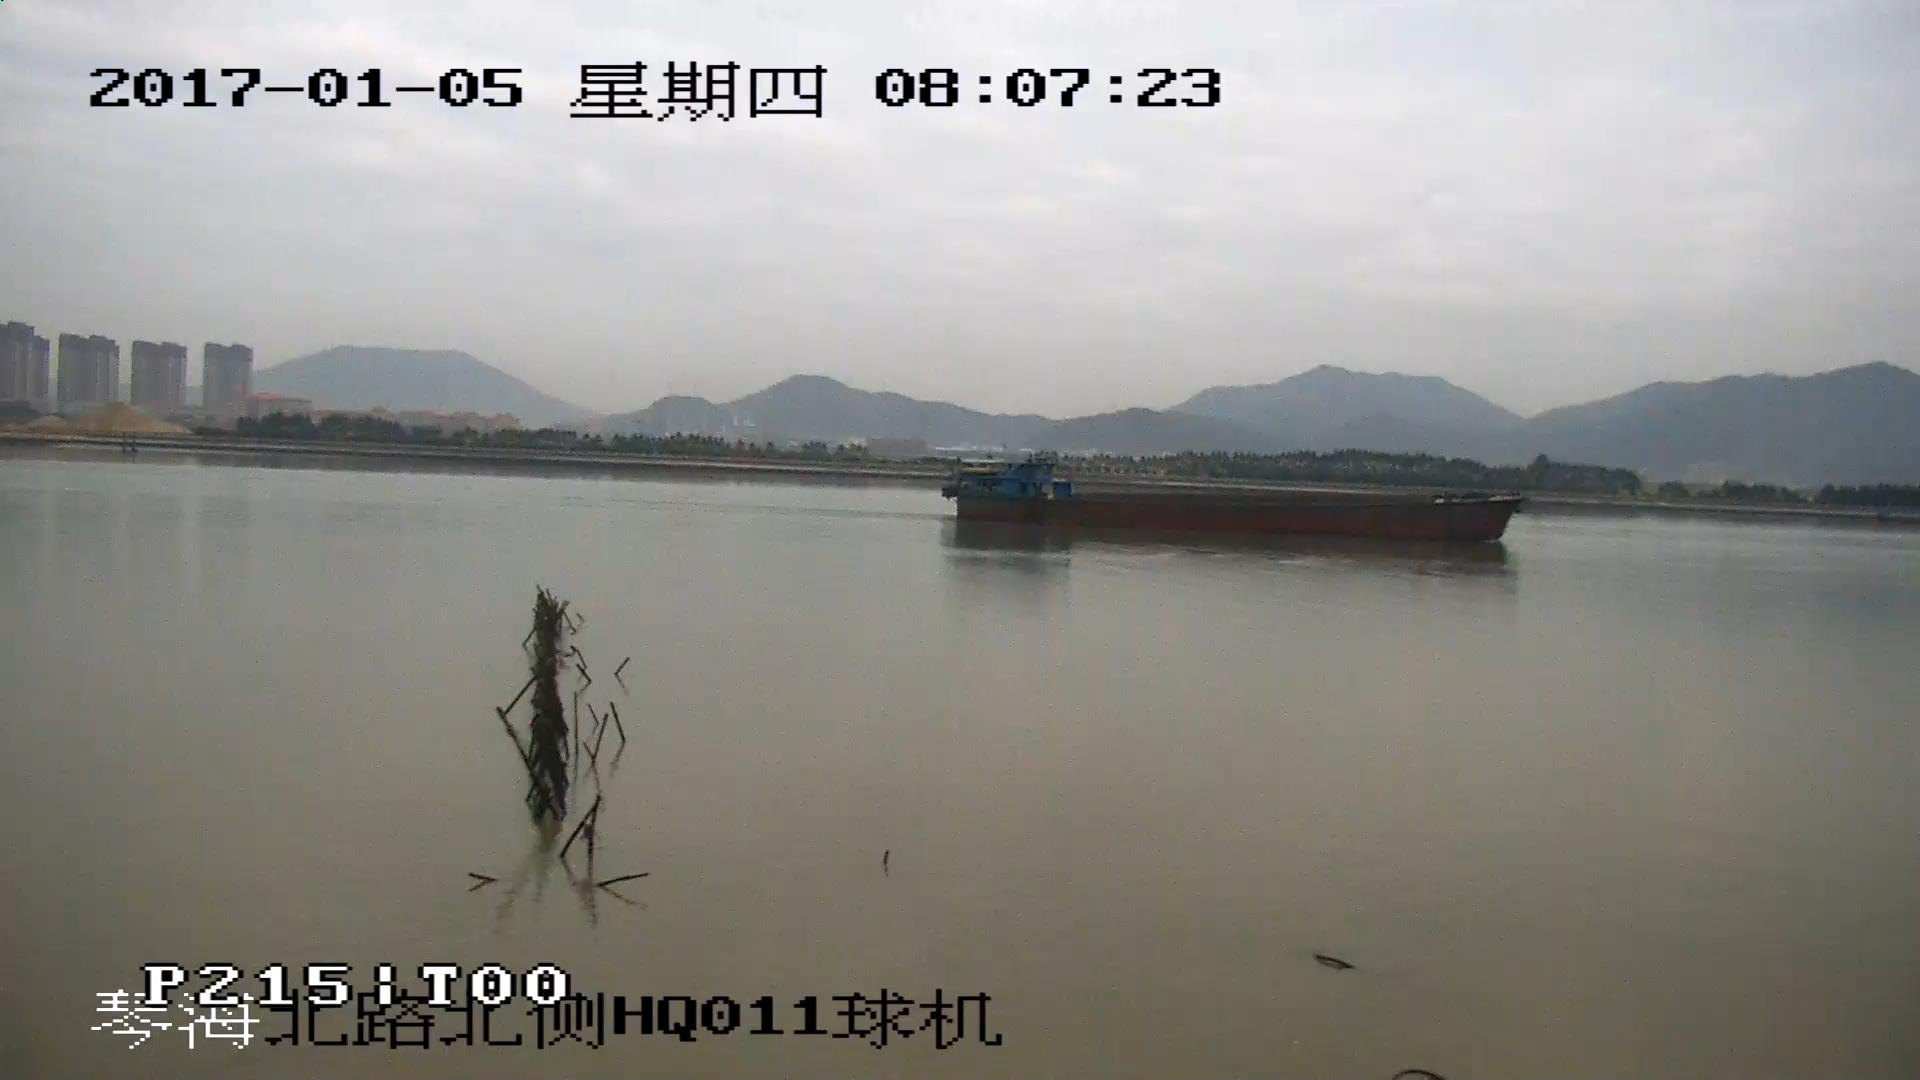bulk cargo carrier: (943, 452, 1520, 546)
